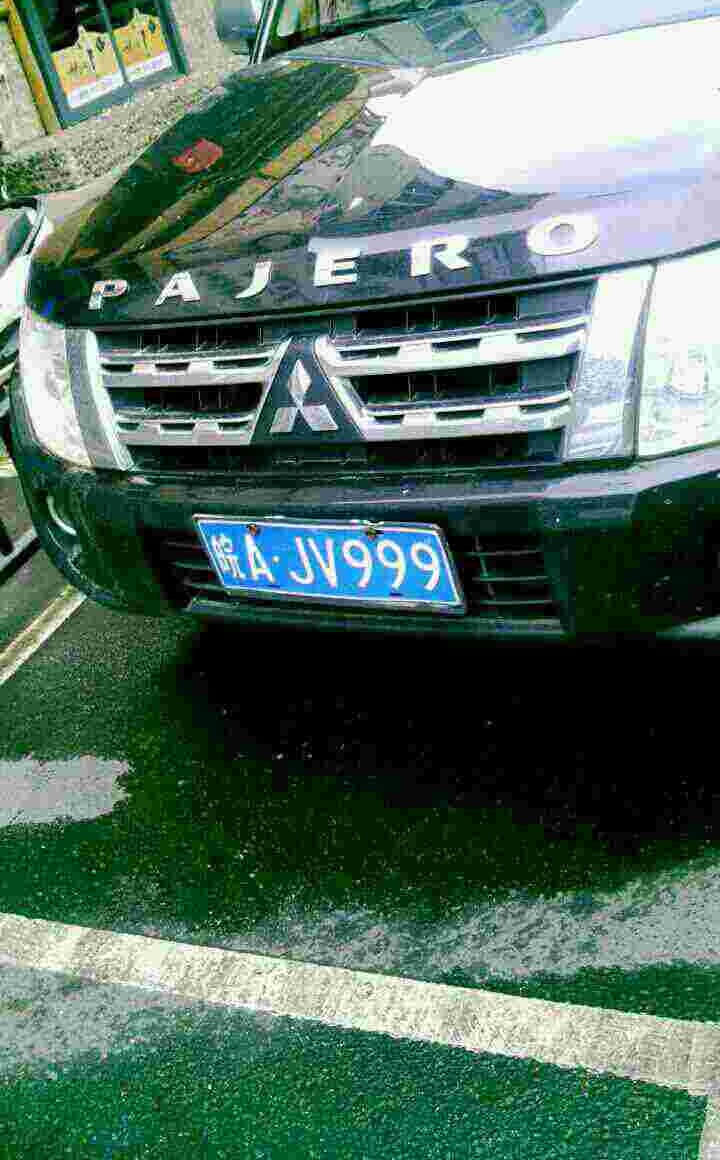license_plate: (196, 520, 445, 601)
